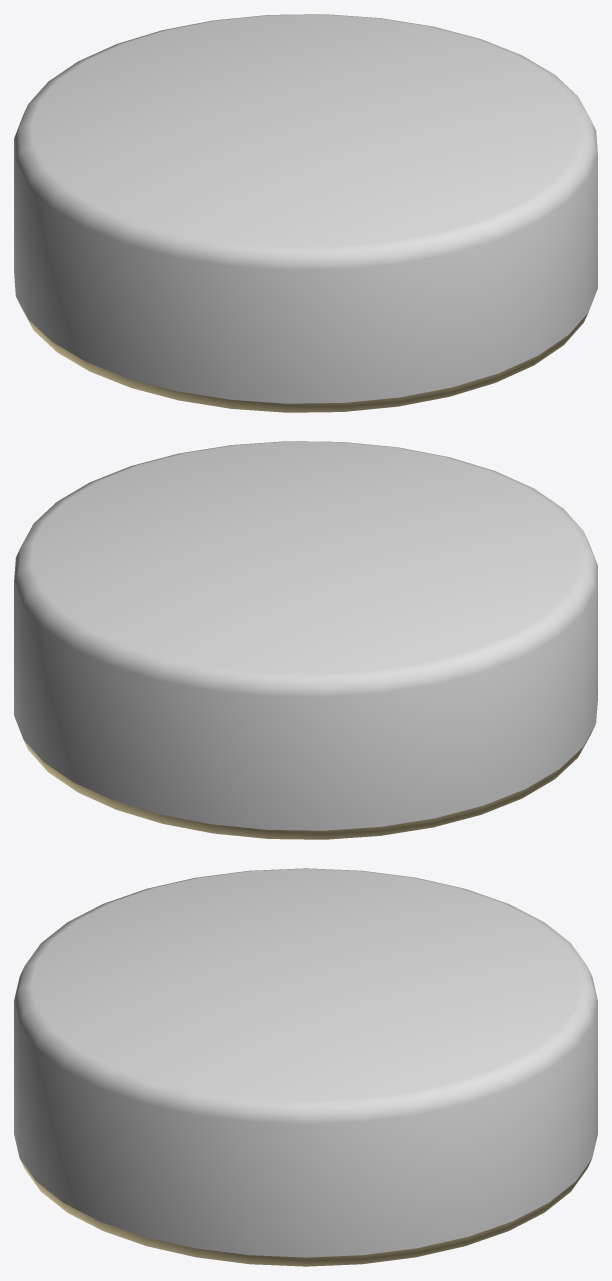
3 views of the same model, one above another, from view 1: azimuth 30°, elevation 25°; view 2: azimuth 150°, elevation 25°; view 3: azimuth 270°, elevation 25° (orthographic).
Parts seen in each view (by area): view 1: Cylinder, Cylinder.005; view 2: Cylinder, Cylinder.005; view 3: Cylinder, Cylinder.005.
Part boxes in pixels (bbox=[...]): Cylinder: bbox=[14, 14, 597, 403]; Cylinder.005: bbox=[17, 299, 587, 412]; Cylinder: bbox=[14, 441, 597, 830]; Cylinder.005: bbox=[24, 726, 594, 839]; Cylinder: bbox=[14, 868, 597, 1257]; Cylinder.005: bbox=[20, 1159, 591, 1266].
Size of the model in its own units: 200 by 62.39 by 200.
